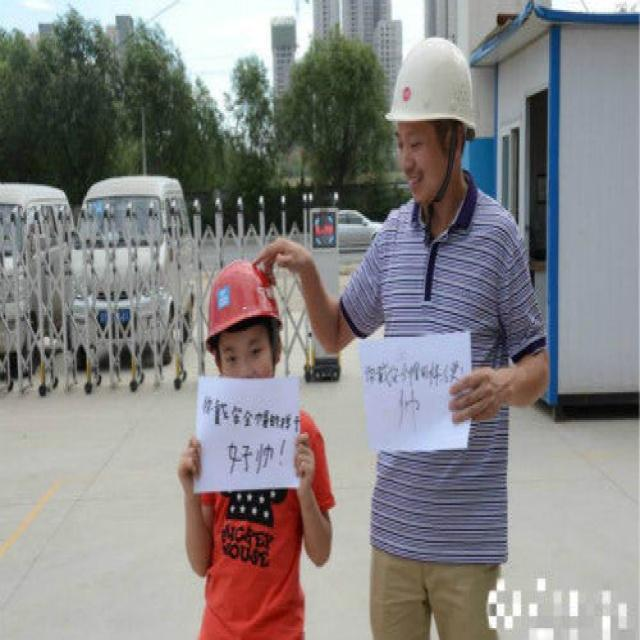helmet: (383, 45, 479, 272), (205, 338, 283, 511)
